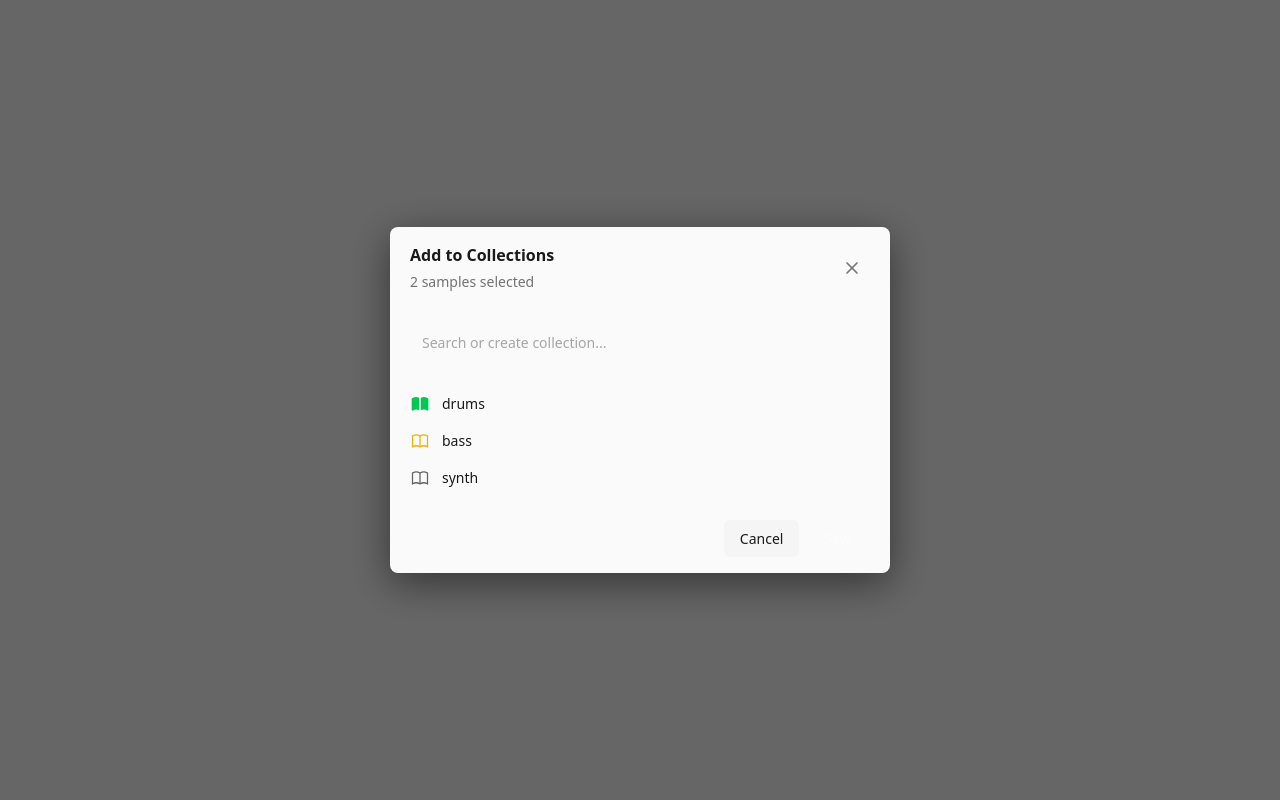
Test: CollectionPopup › Validation › shows validation error for invalid characters
Type "Invalid Name!" into the field with placeholder "Search or create collection..." at (640, 342), box x1=410 y1=324 x2=870 y2=361
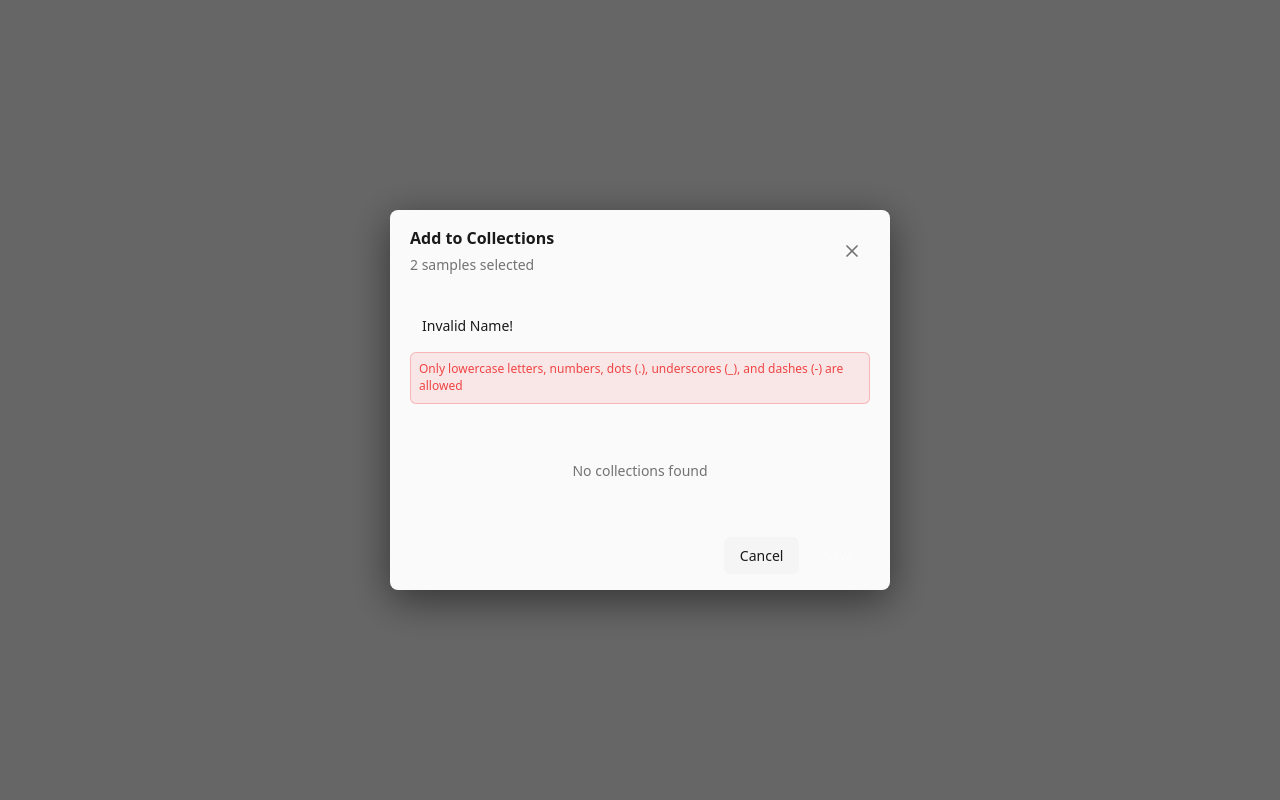
Result: the text "Only lowercase letters, numbers, dots (.), underscores (_), and dashes (-) are allowed" is shown at x1=419 y1=360 x2=843 y2=394
